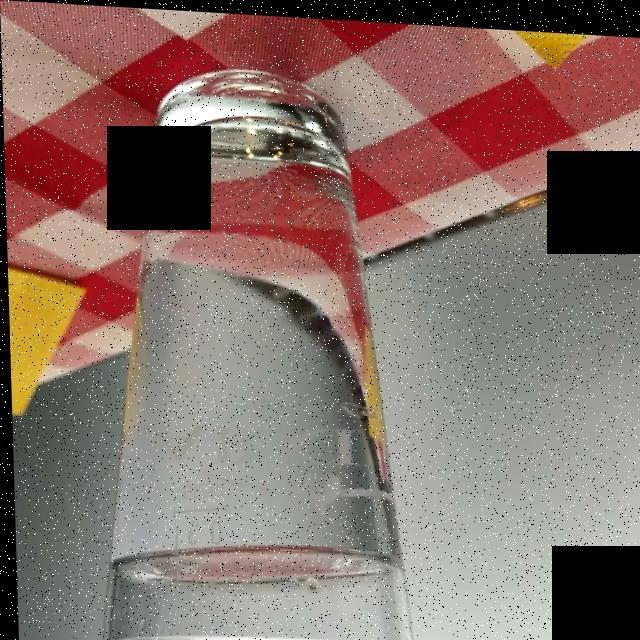water: (127, 548, 380, 583)
